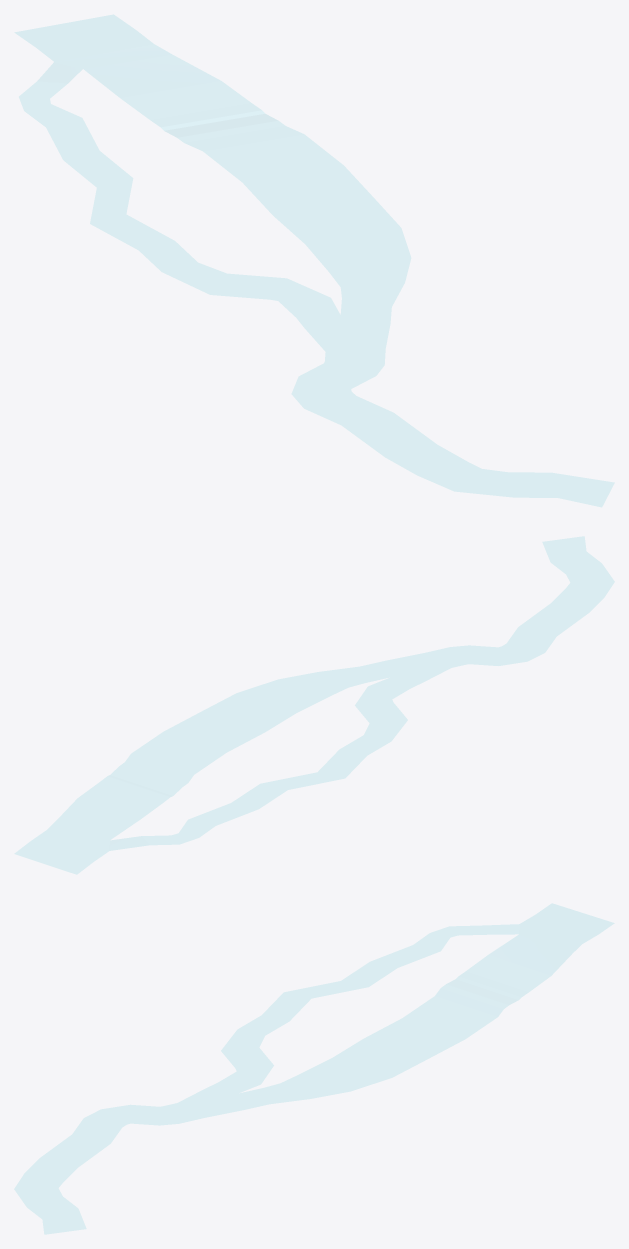
The model's file is Water.FBX.
The picture shows the model from 3 angles, top to bottom: view 1: azimuth 30°, elevation 25°; view 2: azimuth 150°, elevation 25°; view 3: azimuth 330°, elevation 25°; orthographic projection. The views are drawn at different scales.
Parts seen in each view (by area): view 1: Water; view 2: Water; view 3: Water.
Boxes of the visible parts, x1,y1,x2,y2 form: Water: (15,14,614,506); Water: (15,536,614,874); Water: (14,903,614,1234).
Size of the model in its own units: 144 by 2.35 by 568.
